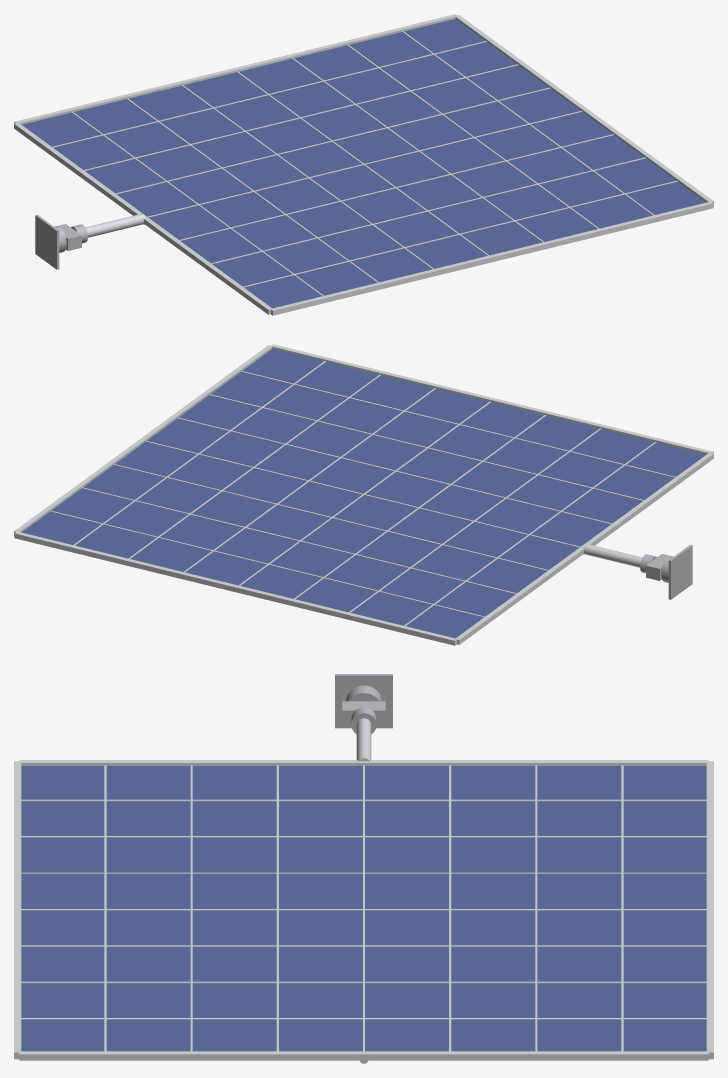
Rendered from power02_iontug_array_deployed.glb.
3 renders of one model, top to bottom at view 1: azimuth 30°, elevation 25°; view 2: azimuth 150°, elevation 25°; view 3: azimuth 270°, elevation 25°, orthographic. The views are drawn at different scales.
Parts seen in each view (by area): view 1: array_panels, frame, gimbal, boom; view 2: array_panels, frame, gimbal, boom; view 3: array_panels, frame, gimbal, boom.
Part boxes in pixels (box(x1,y1,x2,y2)): array_panels: box(22, 19, 705, 308); frame: box(14, 14, 713, 315); gimbal: box(35, 214, 87, 269); boom: box(85, 213, 145, 237); array_panels: box(22, 349, 705, 638); frame: box(14, 344, 713, 645); gimbal: box(640, 544, 692, 599); boom: box(582, 543, 642, 567); array_panels: box(21, 766, 706, 1051); frame: box(14, 760, 713, 1063); gimbal: box(335, 674, 392, 733); boom: box(356, 718, 371, 761).
Size of the model in its own units: 23.3 by 1.6 by 19.3.
